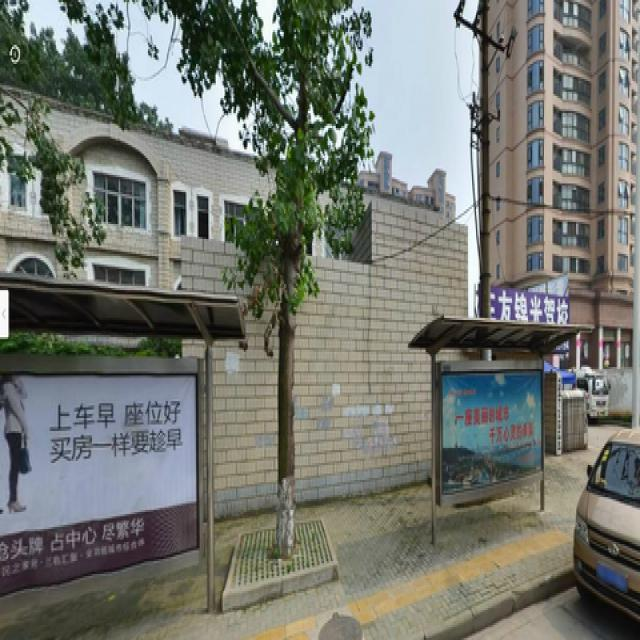gink: (205, 2, 351, 516)
